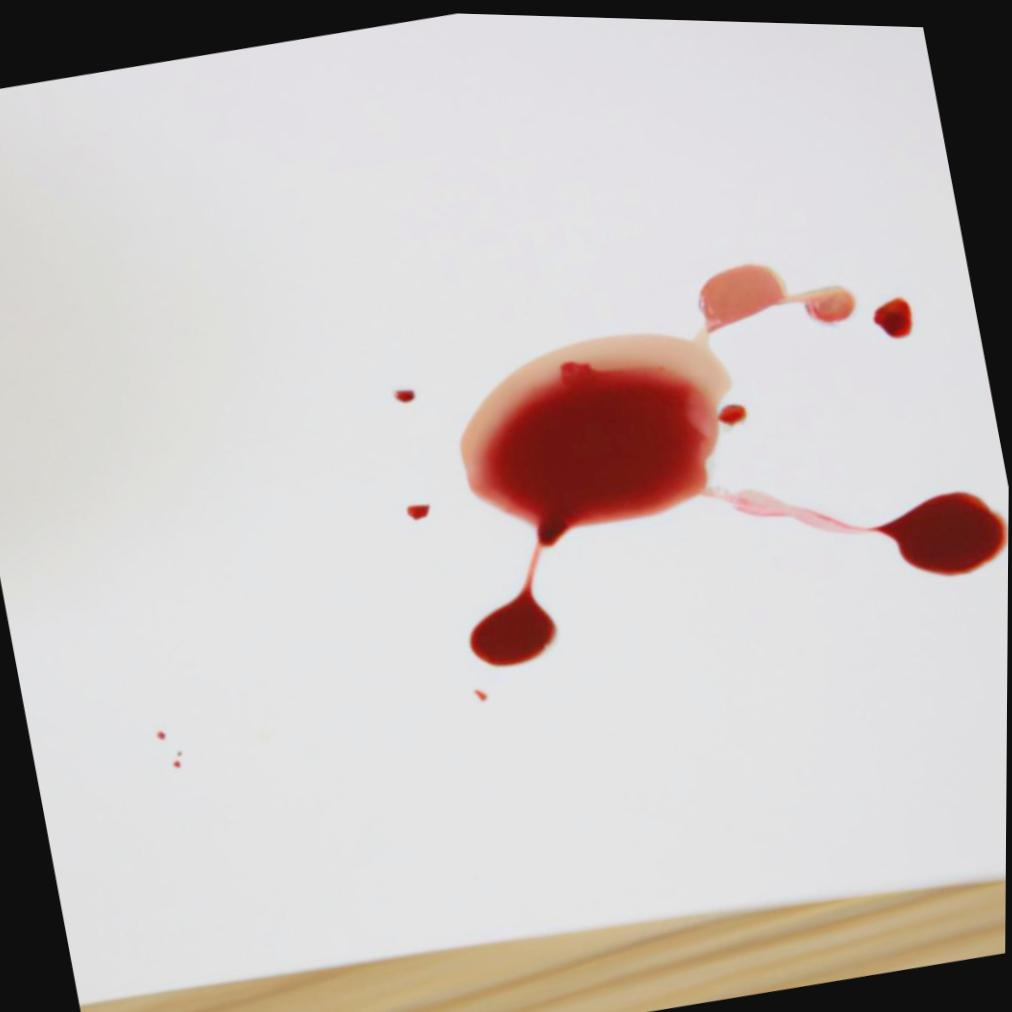Fire: (461, 259, 1009, 664), (873, 293, 914, 333), (408, 502, 431, 518), (395, 388, 416, 401)
